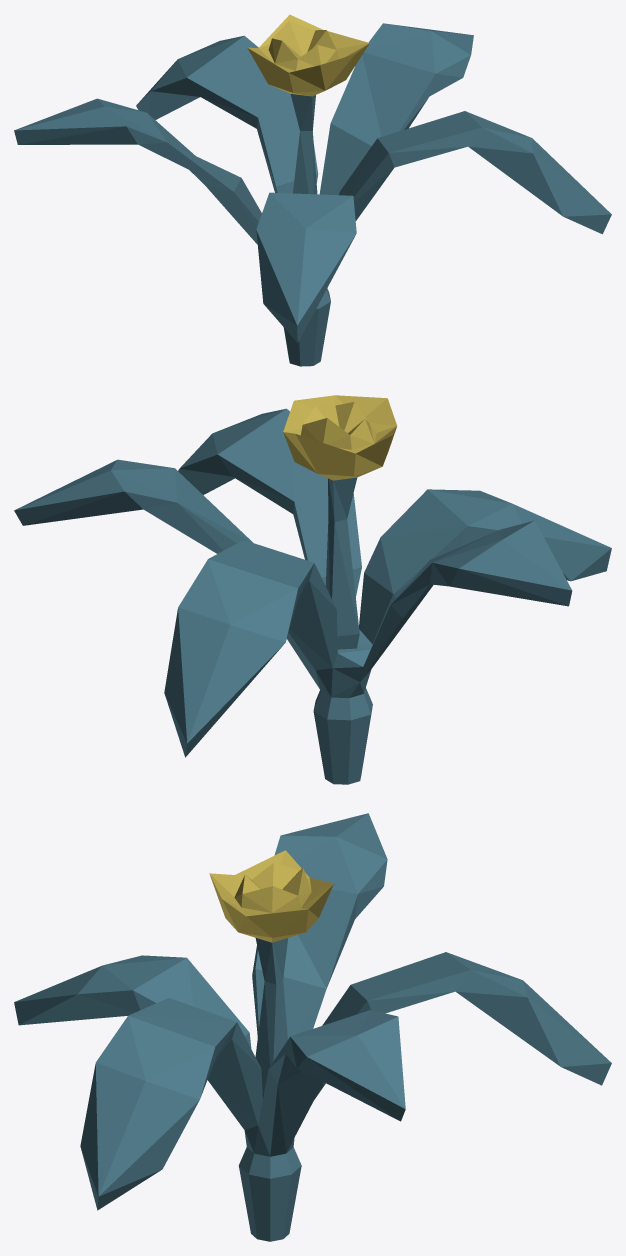
Rendered from SM_Env_Plant_04.fbx.
The picture shows the model from 3 angles, top to bottom: view 1: azimuth 30°, elevation 25°; view 2: azimuth 150°, elevation 25°; view 3: azimuth 270°, elevation 25°; orthographic projection. The views are drawn at different scales.
Parts seen in each view (by area): view 1: SM_Env_Plant_04; view 2: SM_Env_Plant_04; view 3: SM_Env_Plant_04.
Part boxes in pixels (<box>): SM_Env_Plant_04: <box>14,14,611,366</box>; SM_Env_Plant_04: <box>14,395,611,784</box>; SM_Env_Plant_04: <box>14,813,611,1241</box>.
Bounding box in the file's own units: 0.00855 × 0.00563 × 0.00833.
Materials: 1 (1 with a texture image).
